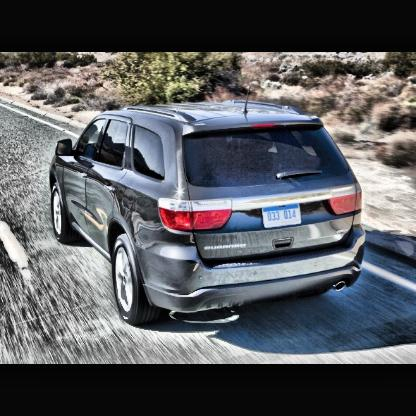Dodge Durango SUV 2012: (49, 83, 370, 329)
